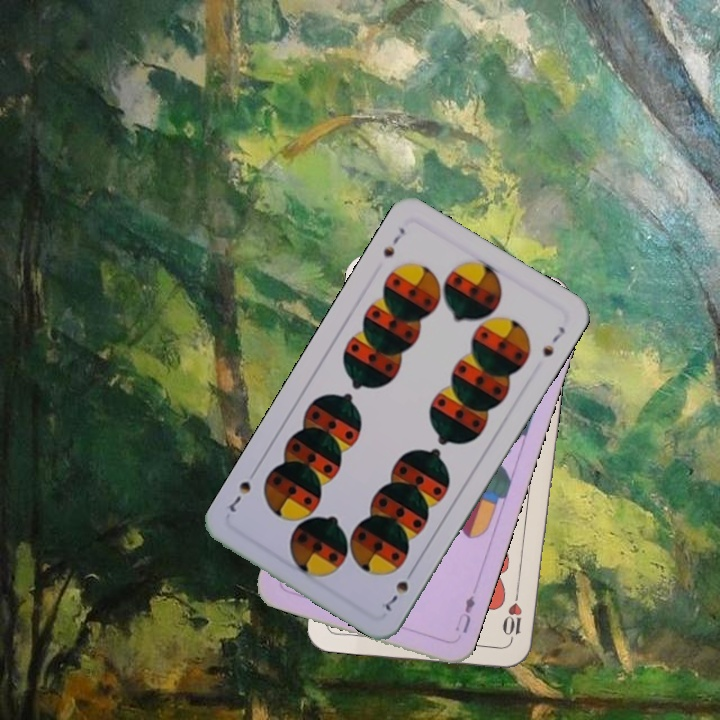EU: (451, 591, 478, 636)
H10: (500, 586, 525, 646)
S7: (381, 564, 418, 613), (379, 223, 408, 260)
